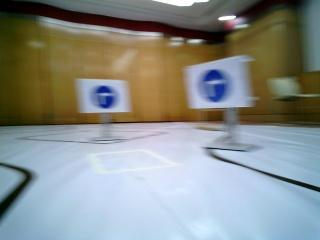right: (184, 65, 250, 106), (81, 81, 126, 110)
